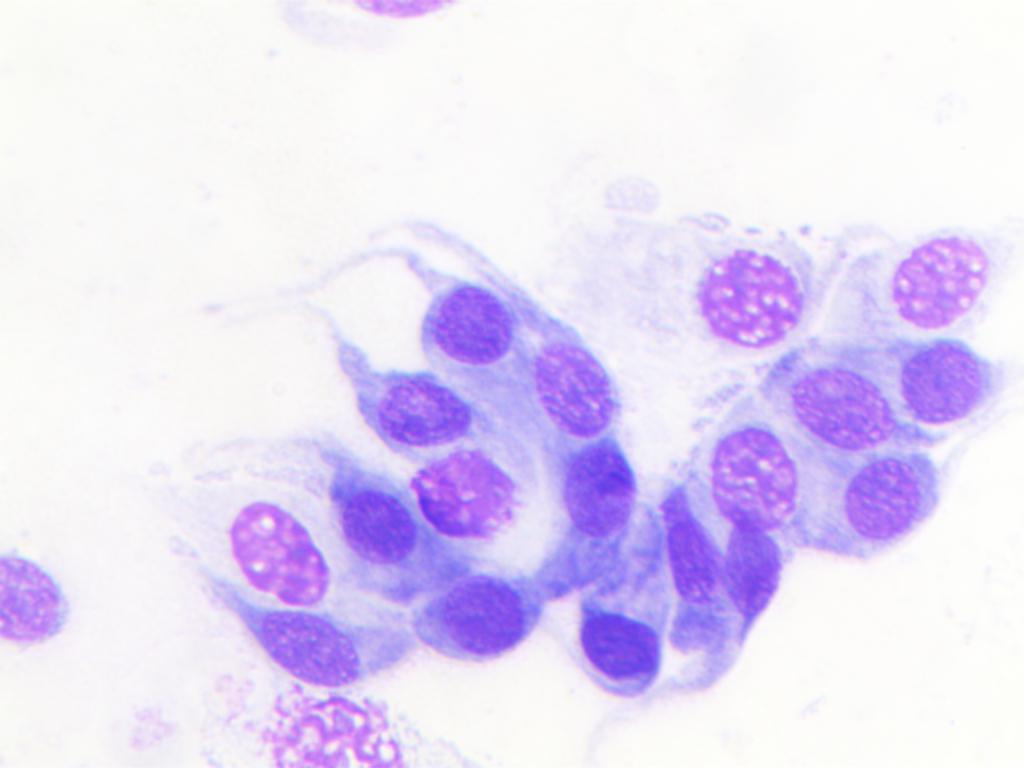epithelial: (878, 209, 1003, 332), (685, 229, 810, 352), (226, 493, 332, 606), (230, 608, 387, 681), (412, 445, 527, 541), (705, 410, 799, 522), (549, 438, 646, 545), (419, 273, 517, 377), (526, 337, 624, 441), (787, 354, 891, 451), (710, 510, 790, 635), (890, 336, 994, 425), (828, 453, 932, 542), (436, 568, 532, 658), (566, 599, 662, 689), (656, 490, 726, 610), (363, 369, 472, 446), (329, 483, 421, 572), (0, 541, 71, 653)
